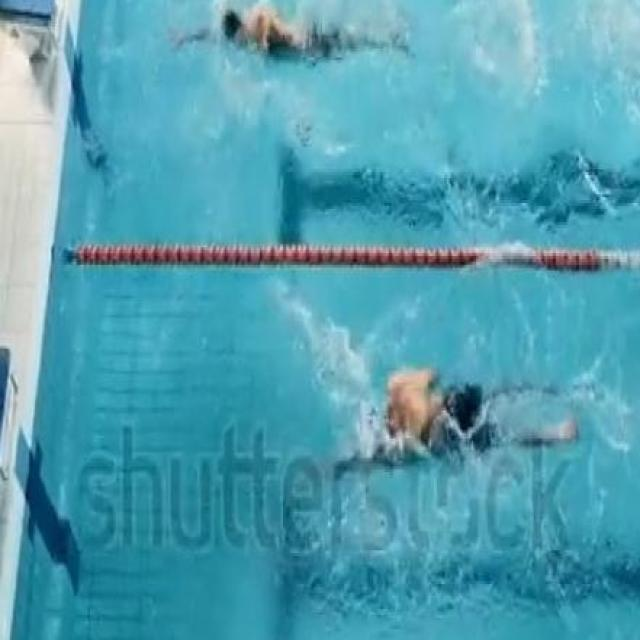Swimming: (339, 373, 577, 466), (168, 4, 416, 64)
